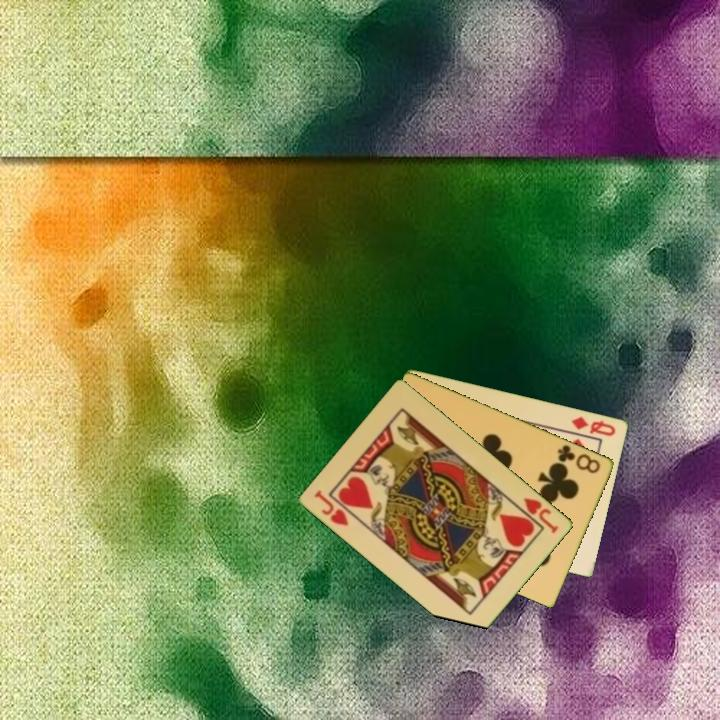8c: (554, 441, 604, 476)
Jh: (512, 494, 562, 537), (311, 486, 352, 529)
Qd: (568, 413, 619, 439)
